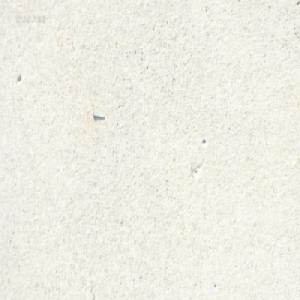Nail: (91, 110, 104, 118)
